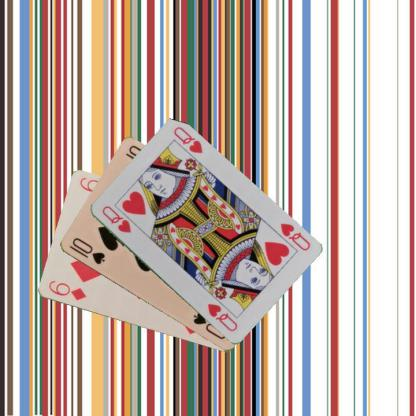10s: (66, 235, 106, 266)
6d: (46, 278, 87, 302)
Qh: (277, 220, 311, 252), (99, 202, 132, 234)
